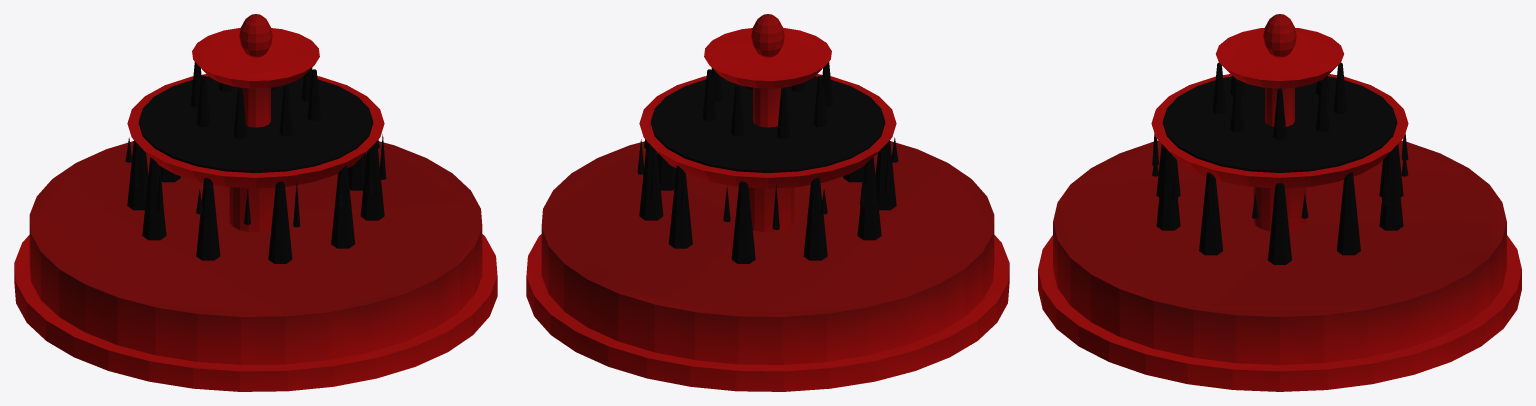
File: fountain_frozen.glb
3 renders of one model, left to right at view 1: azimuth 30°, elevation 25°; view 2: azimuth 150°, elevation 25°; view 3: azimuth 270°, elevation 25°, orthographic.
Visible parts, largest first — view 1: fountain; view 2: fountain; view 3: fountain.
Part boxes in pixels (x1,y1,x2,y2): fountain: (14,14,497,391); fountain: (526,14,1009,391); fountain: (1038,14,1521,391).
Size of what is drawn, in the model's own units: 6.4 by 4.01 by 6.4.
